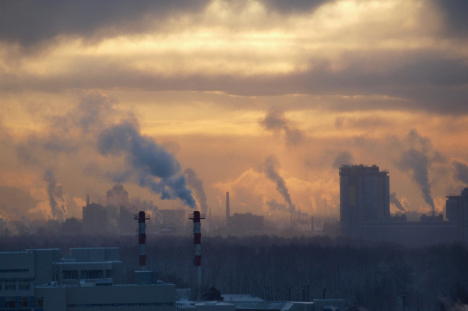dust: (153, 158, 202, 221), (407, 159, 443, 219)
